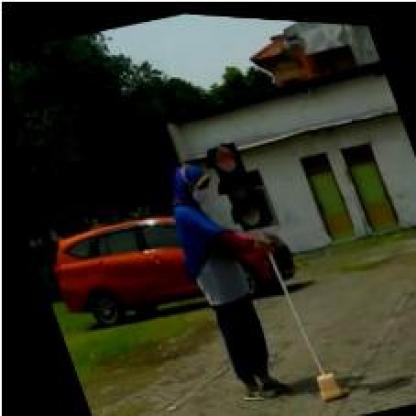red: (196, 134, 266, 233)
